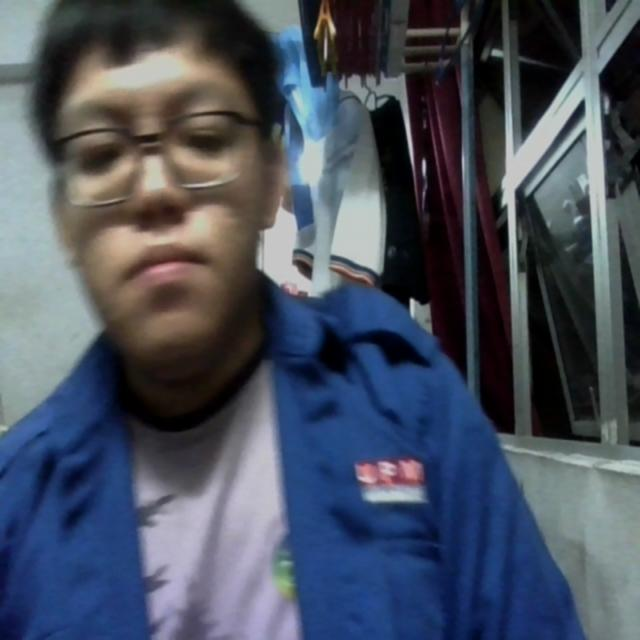person_with_labcoat: (0, 0, 585, 639)
